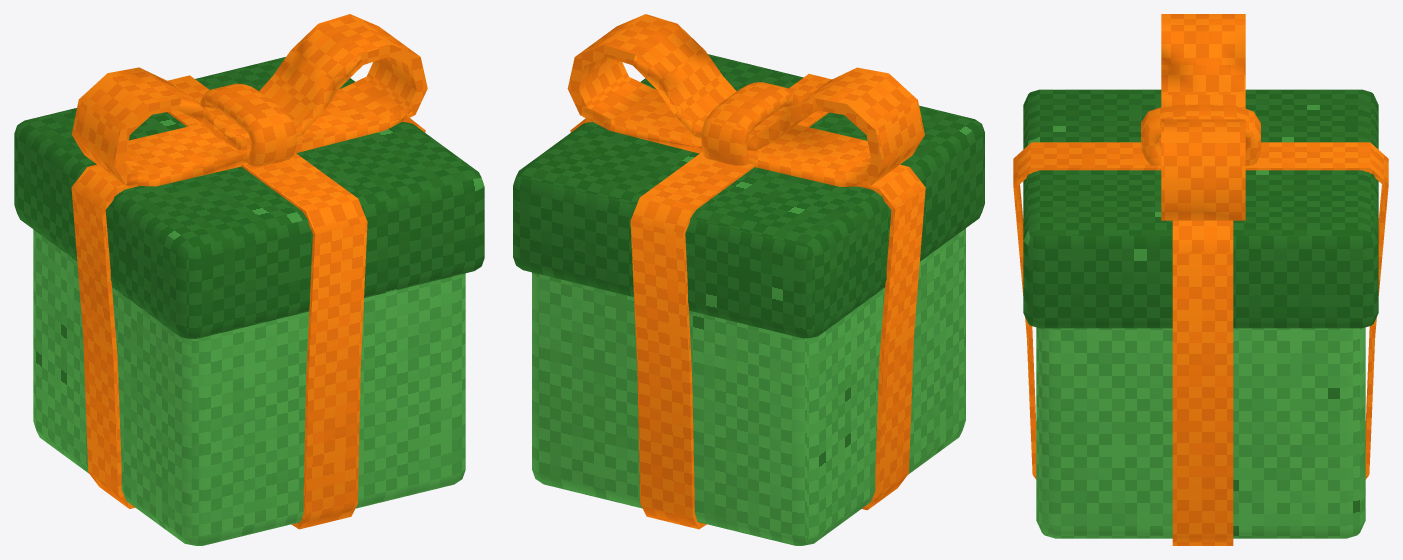
Rendered from pixel-gift.glb.
3 renders of one model, left to right at view 1: azimuth 30°, elevation 25°; view 2: azimuth 150°, elevation 25°; view 3: azimuth 270°, elevation 25°, orthographic.
Visible parts, largest first — view 1: pixel gift; view 2: pixel gift; view 3: pixel gift.
Part boxes in pixels (x1,y1,x2,y2): pixel gift: (14,14,484,545); pixel gift: (513,14,984,545); pixel gift: (1013,14,1388,545).
Bounding box in the file's own units: 0.4155 × 0.5067 × 0.4155.
Materials: 1 (1 with a texture image).
